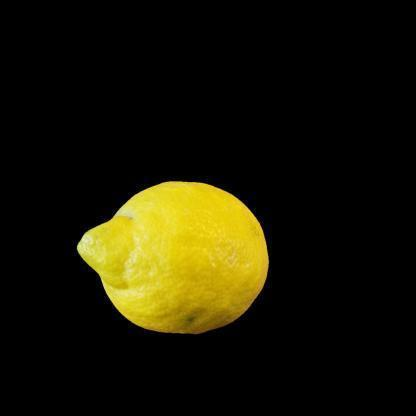lemon: (76, 181, 268, 334)
